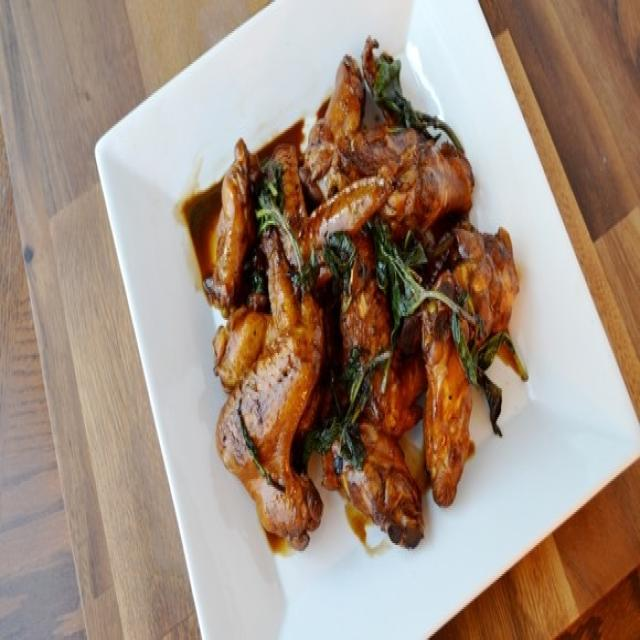鸡肉料理 含炸鸡: (99, 29, 609, 607)
